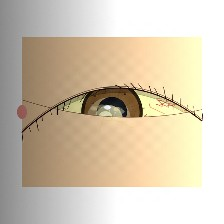corneal_ulcer: (86, 101, 132, 137)
